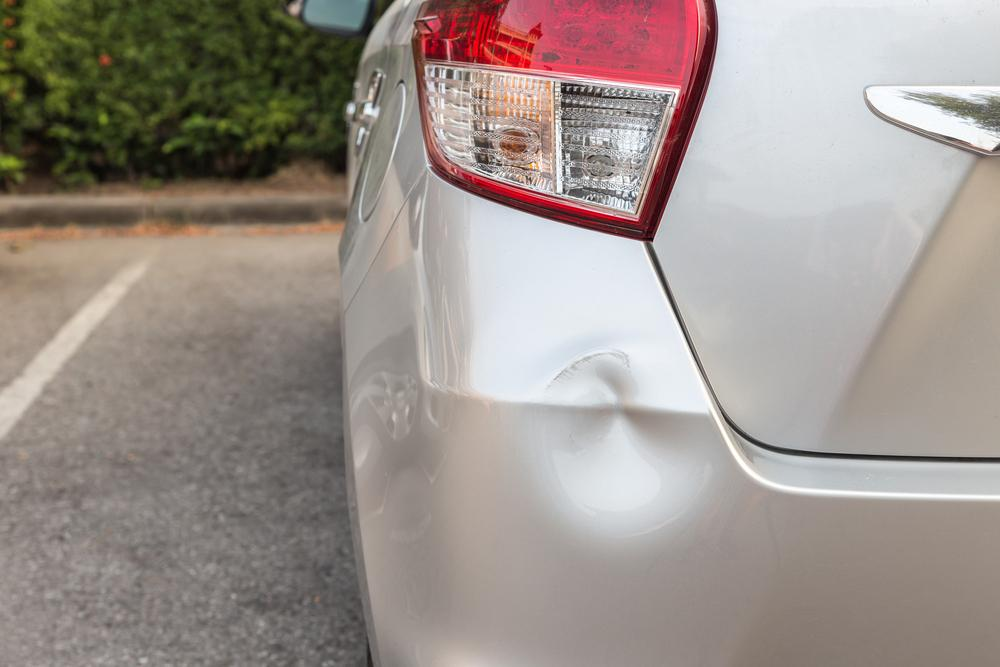dent: (539, 352, 702, 534)
